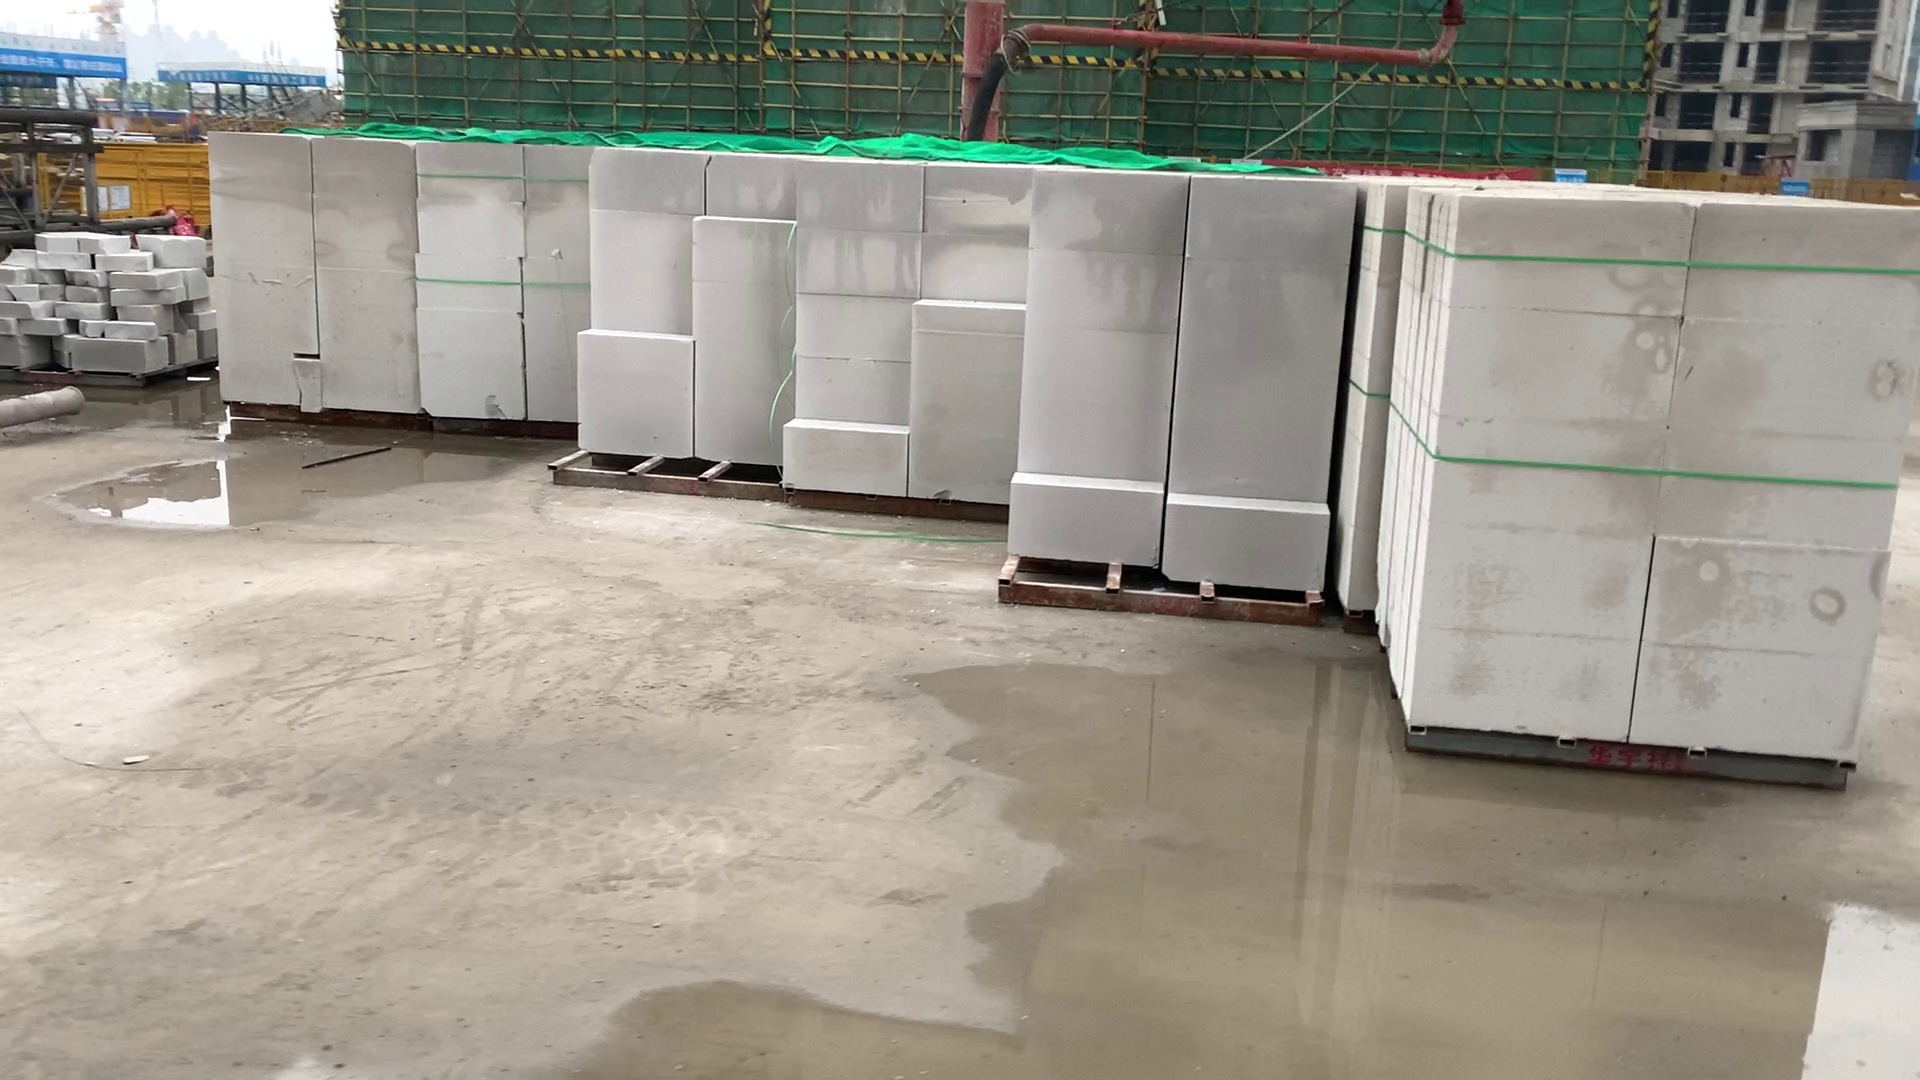brickwork: (1404, 191, 1915, 771), (1022, 175, 1338, 608), (791, 156, 1015, 510), (587, 149, 789, 480), (196, 129, 411, 427), (407, 138, 578, 422)
